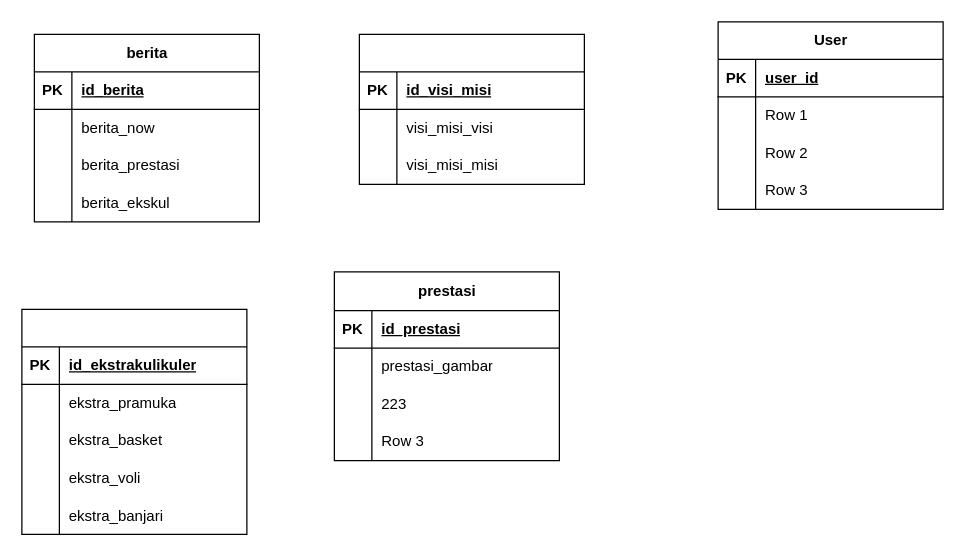
This 965x556 diagram has some shape labels left out. Each missing label, with the box of its shape:
ekrakulikuler: (21, 308, 247, 534)
visi_dan_misi: (358, 33, 584, 184)
